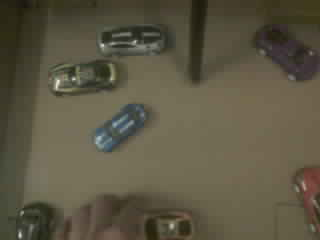Car: (255, 24, 319, 79), (94, 103, 146, 151), (49, 60, 116, 95), (97, 24, 167, 55), (293, 167, 319, 232), (142, 211, 194, 239), (17, 203, 52, 239)
